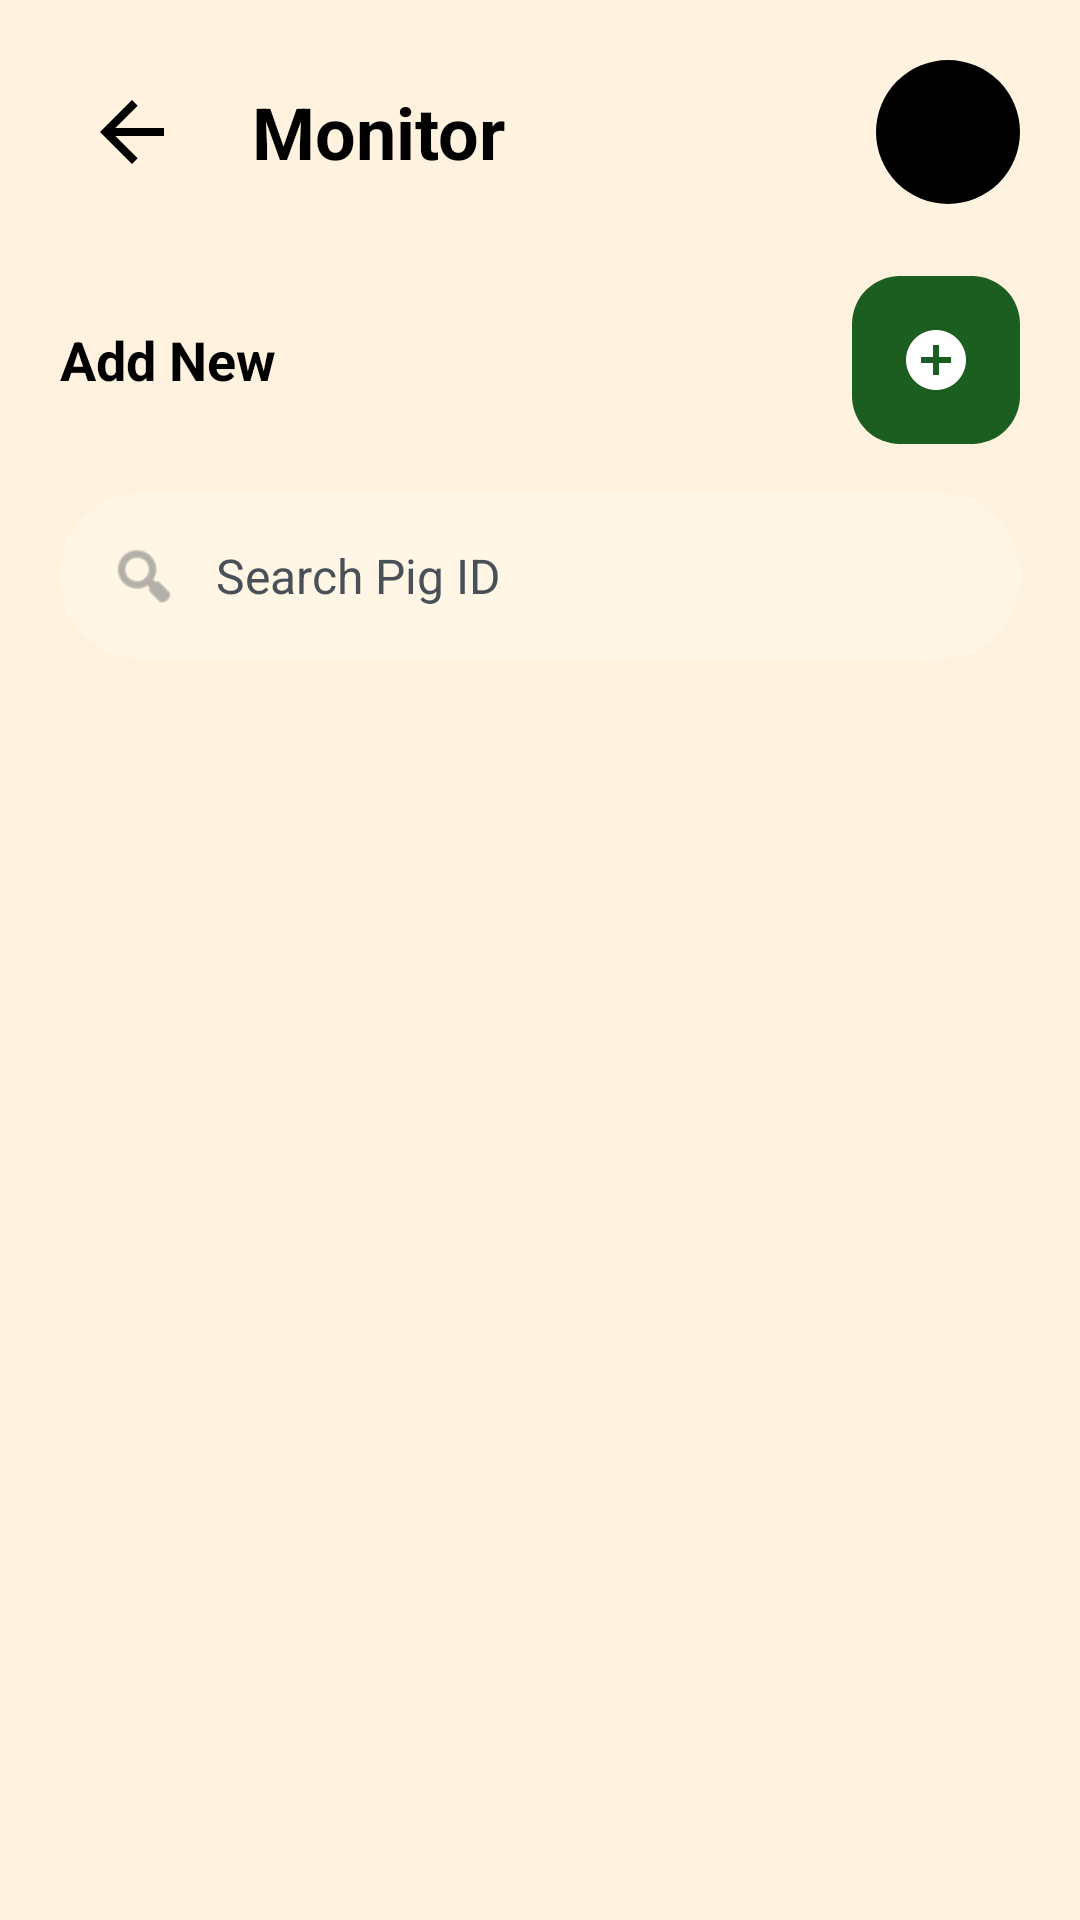

Icon click points for this 1080*1920 phone screenshot, format point (x, y):
add circle: point (936, 360)
back arrow: point (132, 132)
